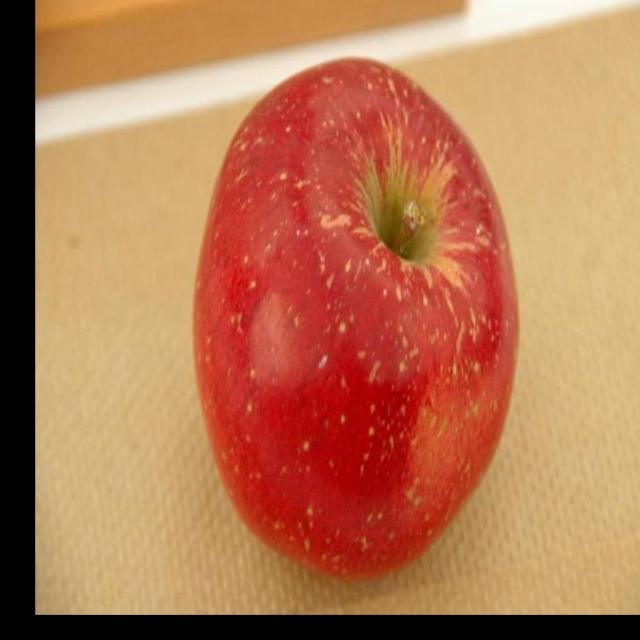red apple: (189, 55, 522, 577)
